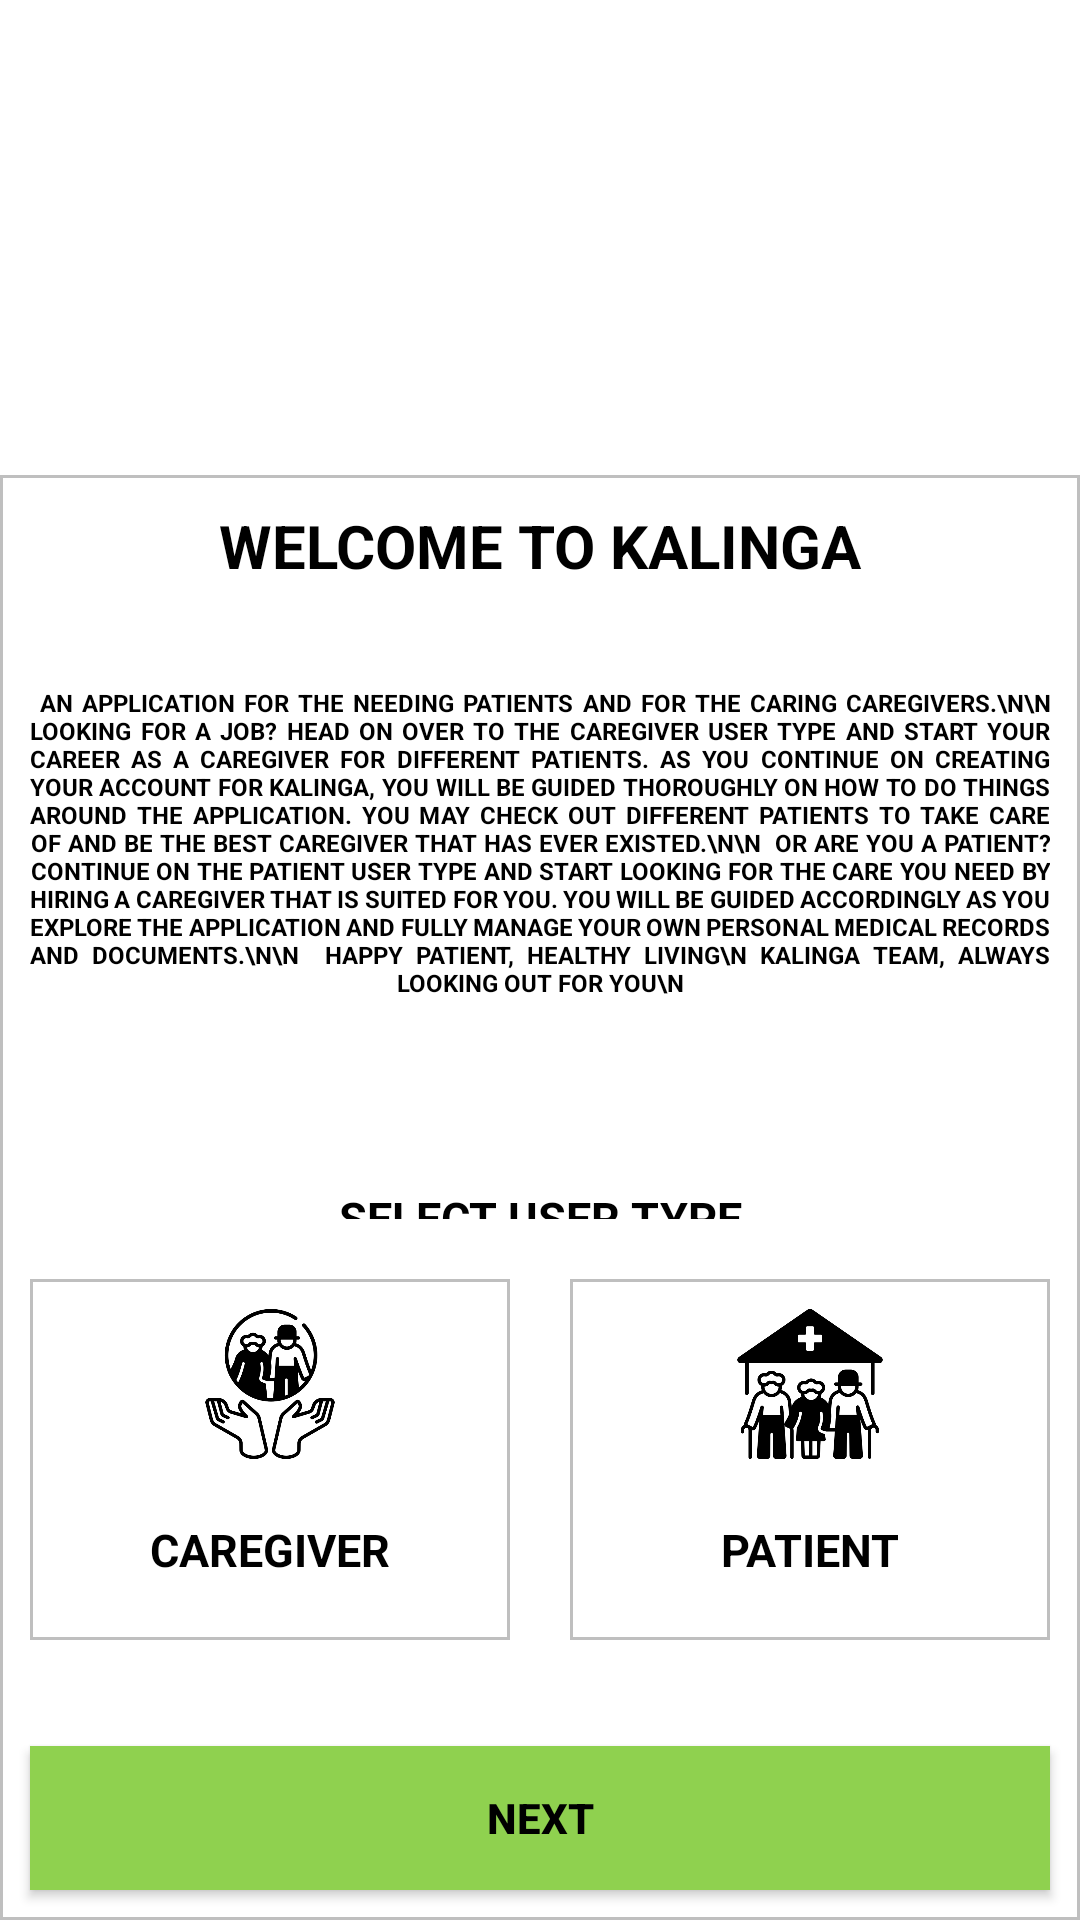

Named icons in this screenshot (1080px×1920px) and their bounding boxes, (x1, y1, x2, y2):
nursing home: (737, 1309, 883, 1459)
